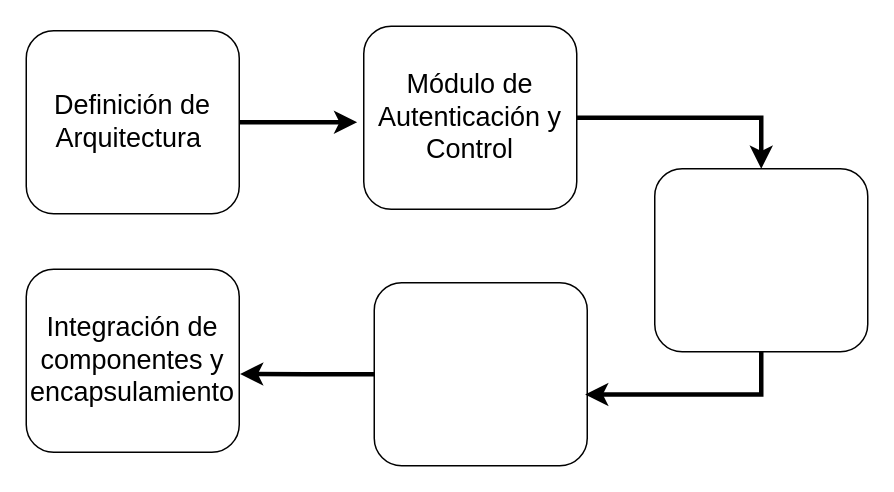
Some shapes in this 894 by 492 pixel diagram are drawn without their labels. Here are the shapes that lost their labels. From the top down, the centre of each, then its label:
(760,259): Módulo de Captura y Transmisión de Datos
(480,373): Módulo de Interfaz Gráfica y Monitoreo
